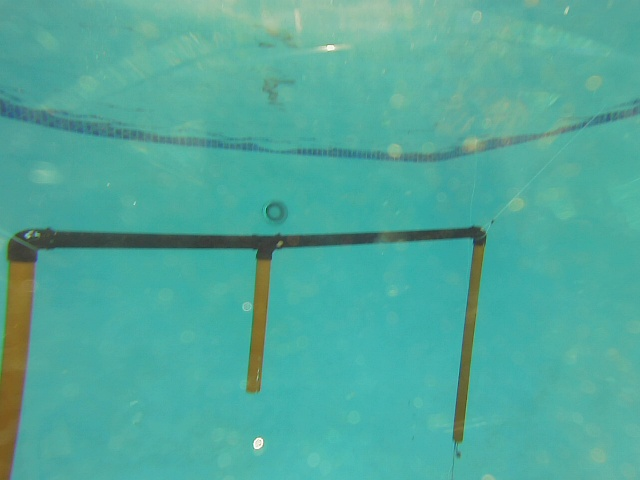Gate: (1, 254, 38, 480), (449, 240, 486, 443), (242, 256, 273, 393)
